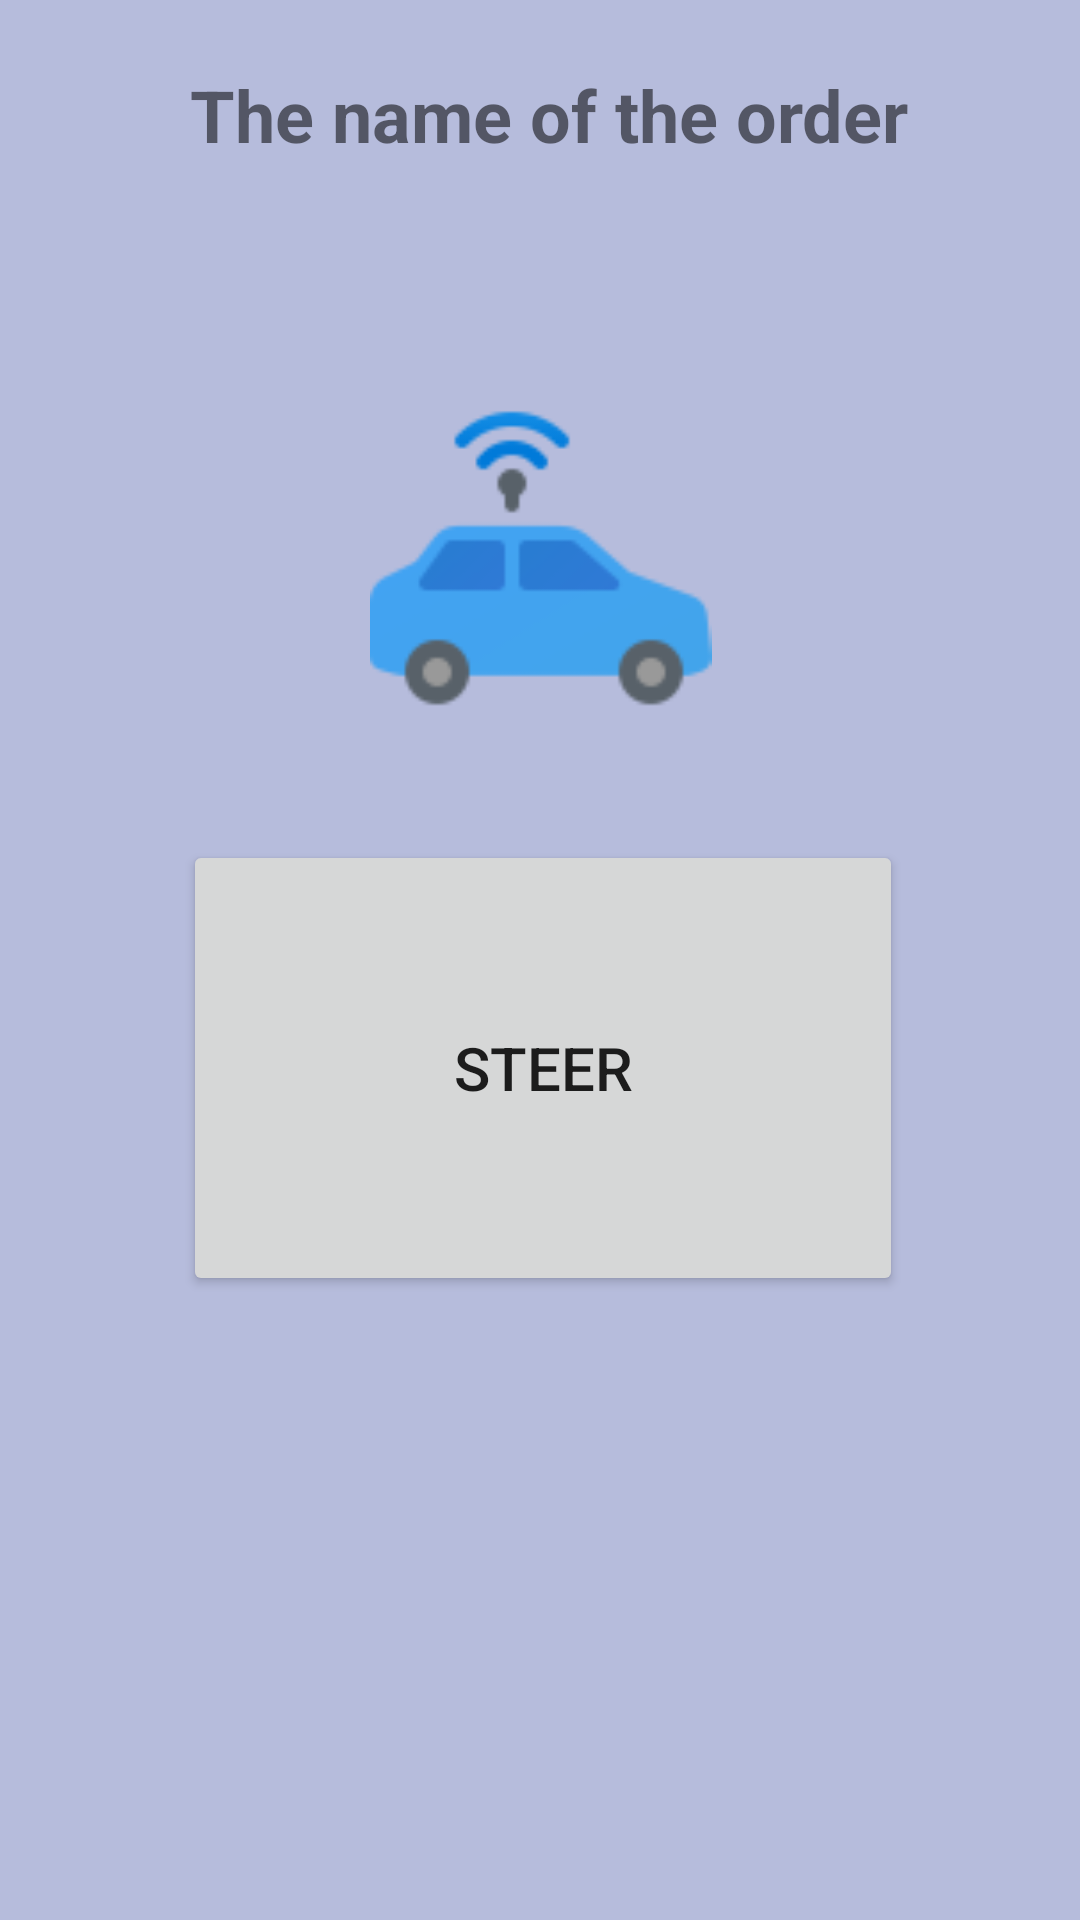

Where icons sit on this 1080px×1920px app screen, as (x1, y1, x2, y2):
autonomous vehicles: (370, 411, 712, 705)
